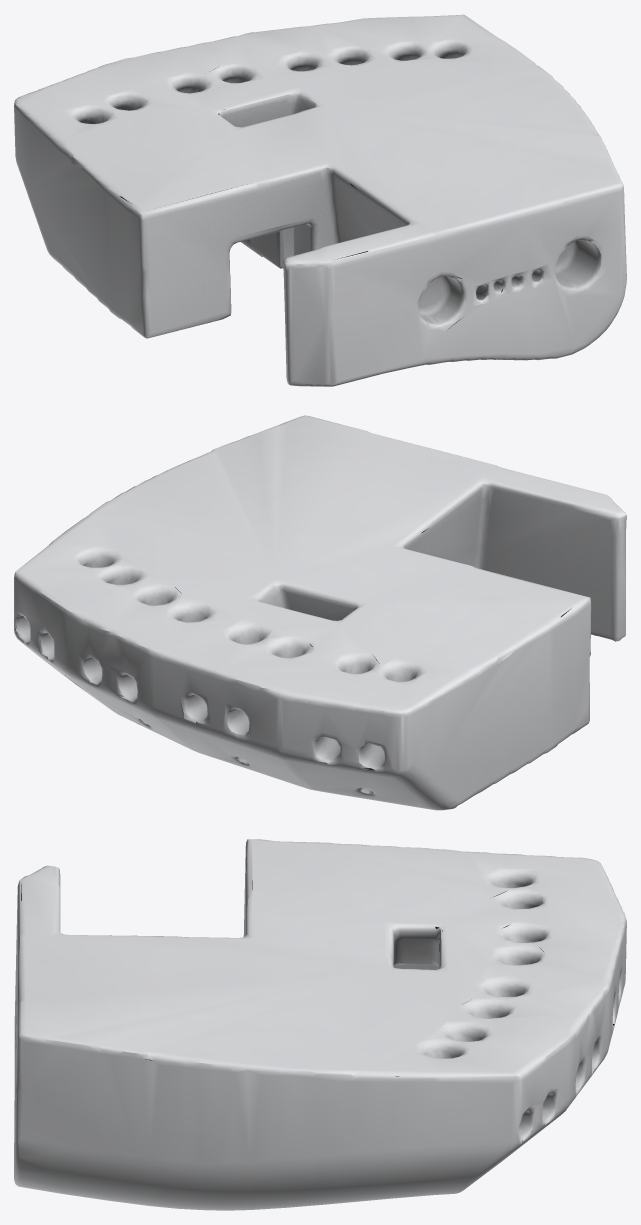
Rendered from right_palm.obj.
3 views of the same model, one above another, from view 1: azimuth 30°, elevation 25°; view 2: azimuth 150°, elevation 25°; view 3: azimuth 270°, elevation 25° (orthographic). The views are drawn at different scales.
Parts seen in each view (by area): view 1: right_palm; view 2: right_palm; view 3: right_palm.
Boxes of the visible parts, box(x1,y1,x2,y2) form: right_palm: box(14, 14, 626, 386); right_palm: box(14, 415, 626, 810); right_palm: box(14, 839, 626, 1210).
Bounding box in the file's own units: 0.0685 × 0.0233 × 0.0722.
1 material, 1 textured.
